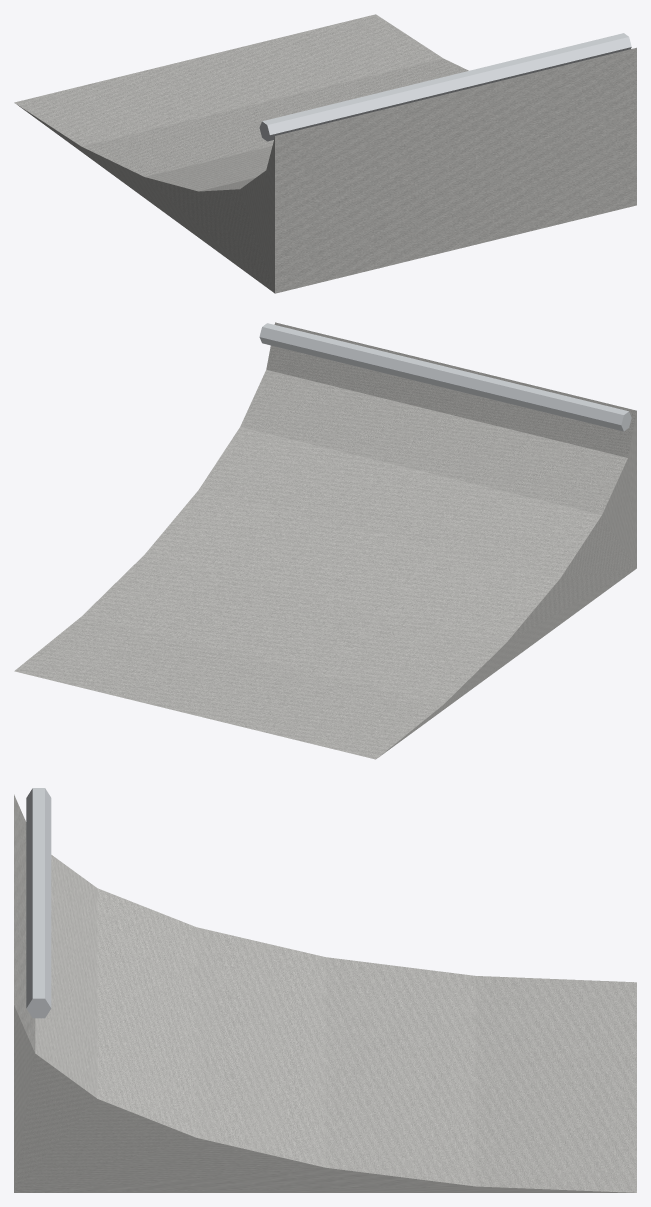
Rendered from skate-park-and-street-sports-launch-ramp-850c4637__33516.glb.
3 views of the same model, one above another, from view 1: azimuth 30°, elevation 25°; view 2: azimuth 150°, elevation 25°; view 3: azimuth 270°, elevation 25° (orthographic). The views are drawn at different scales.
Parts seen in each view (by area): view 1: launch-ramp-concrete, launch-ramp-steel; view 2: launch-ramp-concrete, launch-ramp-steel; view 3: launch-ramp-concrete, launch-ramp-steel.
Part boxes in pixels (<box>): launch-ramp-concrete: <box>14,14,636,293</box>; launch-ramp-steel: <box>259,33,631,141</box>; launch-ramp-concrete: <box>14,322,636,759</box>; launch-ramp-steel: <box>259,323,631,431</box>; launch-ramp-concrete: <box>14,794,636,1192</box>; launch-ramp-steel: <box>26,788,51,1018</box>.
Size of the model in its own units: 1.2 by 0.516 by 1.5.
2 materials, 1 textured.
